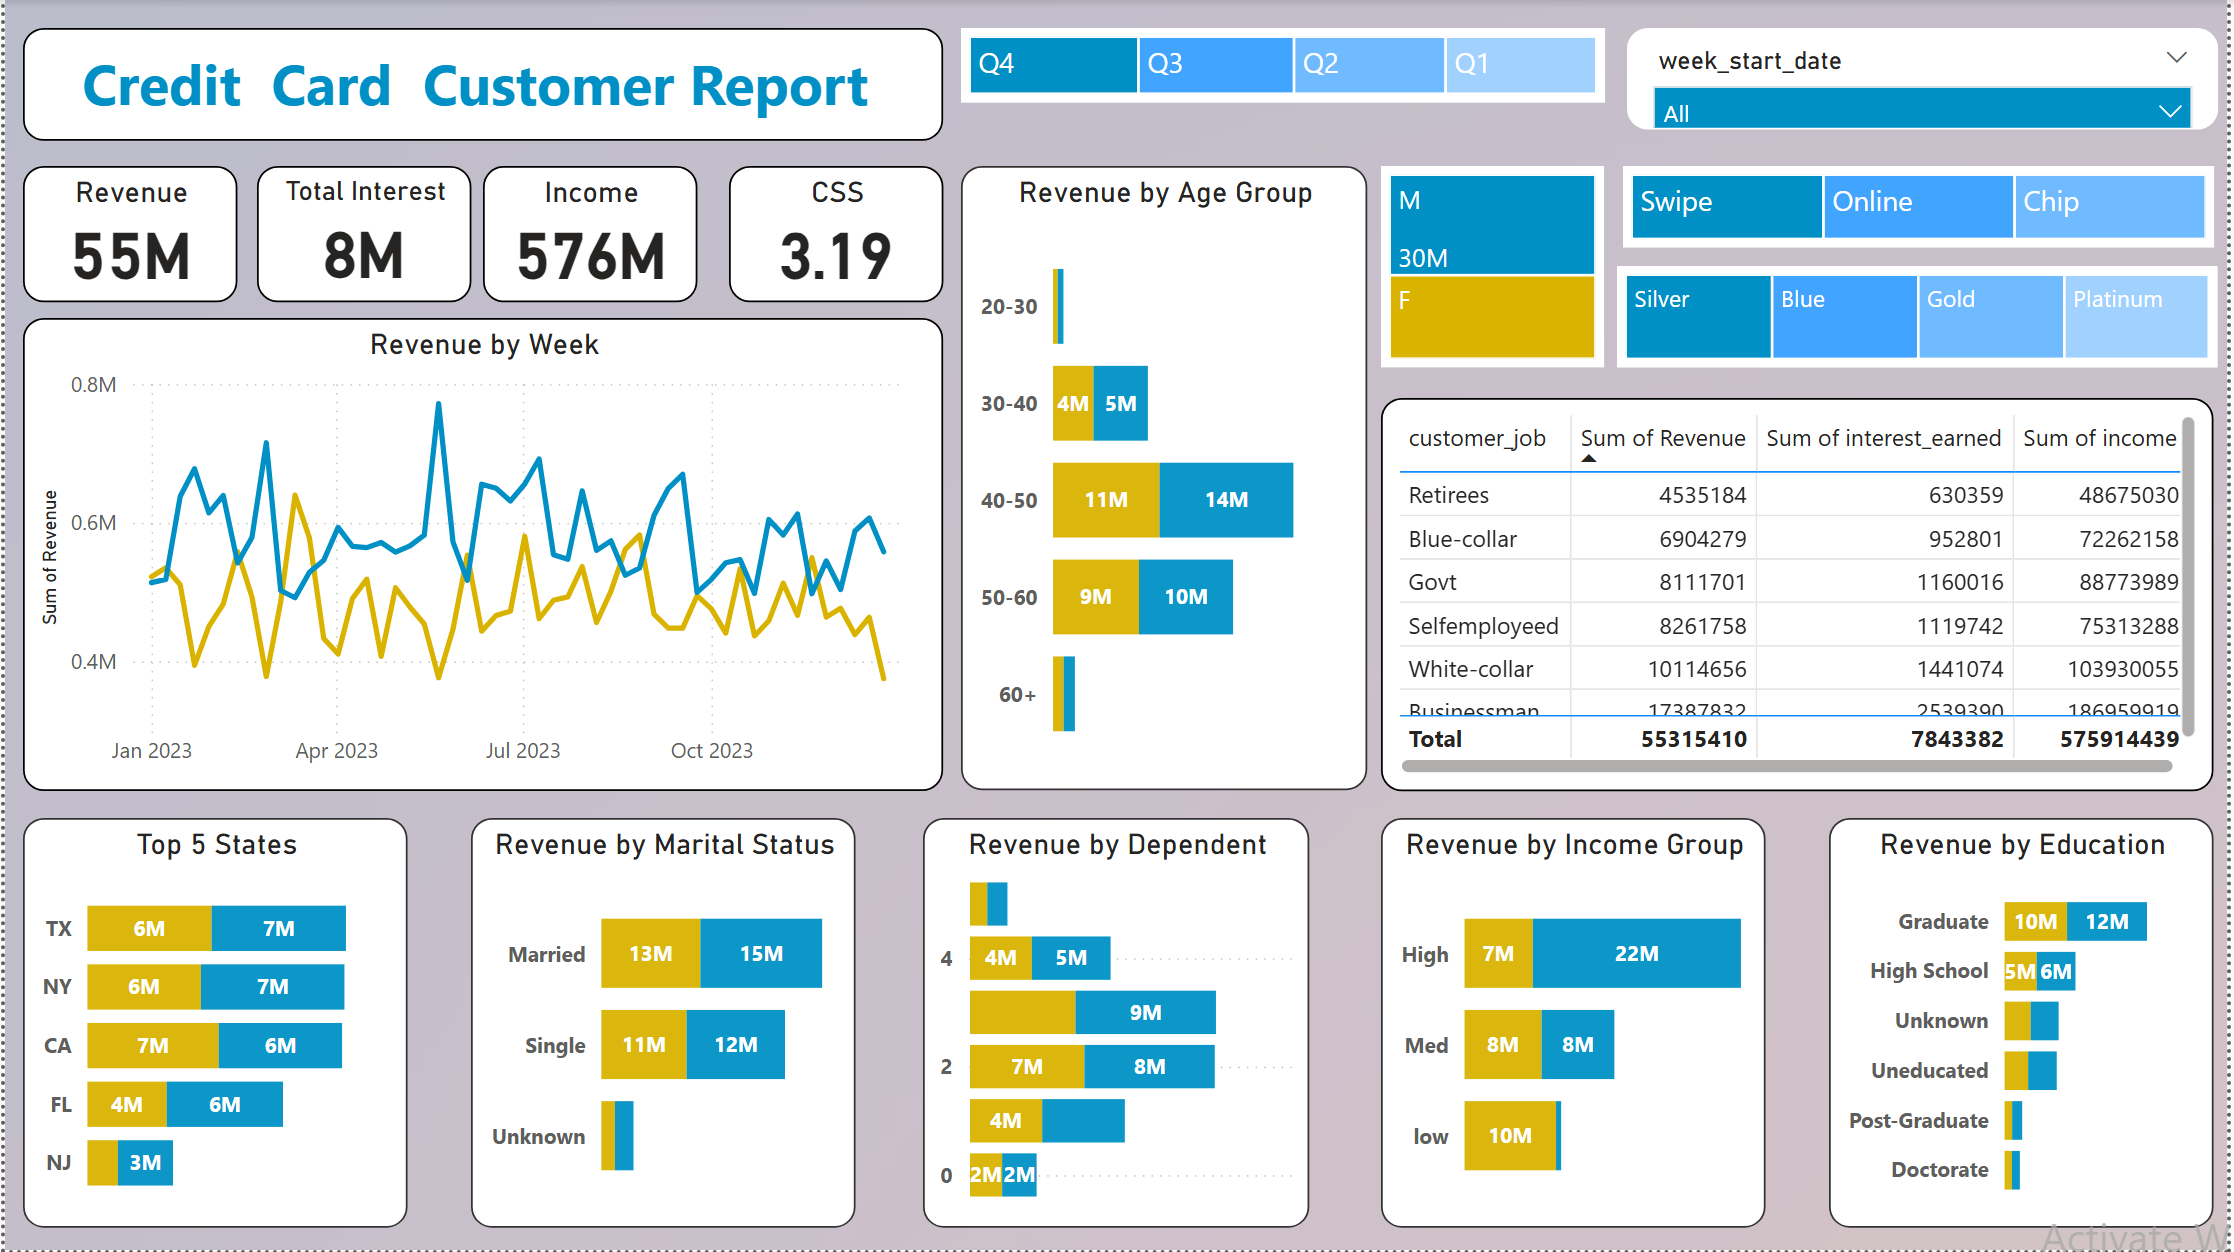

The page's visual inventory and layout, read from the dashboard file:
{"tool":"powerbi","page":{"name":"CC Customer","canvas":[1280,720],"ordinal":2},"visuals":[{"type":"textbox","box":[10.4,15.7,529.8,64.8],"z":0},{"type":"barChart","title":"Revenue by Income Group","fields":{"Y":["Sum(public cc_detail.Revenue)"],"Category":["public cust_detail.IncomeGroup"],"Series":["public cust_detail.gender"]},"box":[793.1,471.2,221.5,236.1],"z":1000},{"type":"tableEx","fields":{"Values":["public cust_detail.customer_job","Sum(public cc_detail.Revenue)","Sum(public cc_detail.interest_earned)","Sum(public cust_detail.income)"]},"box":[793.1,228.8,479.6,226.7],"z":2000},{"type":"card","title":"Revenue","fields":{"Values":["Sum(public cc_detail.Revenue)"]},"box":[10.4,96.1,123.3,78.4],"z":3000},{"type":"card","title":"Income","fields":{"Values":["Sum(public cust_detail.income)"]},"box":[275.9,96.1,123.3,78.4],"z":4000},{"type":"card","title":"Total Interest","fields":{"Values":["Sum(public cc_detail.interest_earned)"]},"box":[145.2,96.1,123.3,78.4],"z":5000},{"type":"card","title":"CSS","fields":{"Values":["Avg(public cust_detail.cust_satisfaction_score)"]},"box":[416.9,96.1,123.3,78.4],"z":6000},{"type":"slicer","fields":{"Values":["public cc_detail.week_start_date"]},"box":[934.1,15.7,340.6,58.5],"z":7000},{"type":"treemap","fields":{"Group":["public cc_detail.qtr"],"Values":["Avg(public cc_detail.client_num)"]},"box":[550.7,15.7,370.9,42.8],"z":8000},{"type":"treemap","fields":{"Values":["Avg(public cc_detail.client_num)"],"Group":["public cc_detail.use_chip"]},"box":[932,96.1,340.6,47],"z":9000},{"type":"treemap","fields":{"Values":["Avg(public cc_detail.client_num)"],"Group":["public cc_detail.card_category"]},"box":[928.9,153.6,345.9,58.5],"z":10000},{"type":"treemap","fields":{"Group":["public cust_detail.gender"],"Values":["Sum(public cc_detail.Revenue)"]},"box":[793.1,96.1,128.5,116],"z":13000},{"type":"lineChart","title":"Revenue by Week","fields":{"Y":["Sum(public cc_detail.Revenue)"],"Series":["public cust_detail.gender"],"Category":["public cc_detail.week_start_date.Variation.Date Hierarchy.Year","public cc_detail.week_start_date.Variation.Date Hierarchy.Month","public cc_detail.week_start_date.Variation.Date Hierarchy.Day"]},"box":[10.4,182.9,529.8,272.7],"z":13001},{"type":"barChart","title":"Revenue by Age Group","fields":{"Y":["Sum(public cc_detail.Revenue)"],"Category":["public cust_detail.AgeGroup"],"Series":["public cust_detail.gender"]},"box":[550.7,96.1,234.1,359.4],"z":13002},{"type":"barChart","title":"Revenue by Dependent","fields":{"Y":["Sum(public cc_detail.Revenue)"],"Category":["public cust_detail.dependent_count"],"Series":["public cust_detail.gender"]},"box":[528.7,471.2,222.6,236.1],"z":13003},{"type":"barChart","title":"Revenue by Education","fields":{"Y":["Sum(public cc_detail.Revenue)"],"Category":["public cust_detail.education_level"],"Series":["public cust_detail.gender"]},"box":[1051.2,471.2,221.5,236.1],"z":13004},{"type":"barChart","title":"Top 5 States","fields":{"Y":["Sum(public cc_detail.Revenue)"],"Category":["public cust_detail.state_cd"],"Series":["public cust_detail.gender"]},"box":[10.4,471.2,221.5,236.1],"z":13005},{"type":"barChart","title":"Revenue by Marital Status","fields":{"Y":["Sum(public cc_detail.Revenue)"],"Category":["public cust_detail.marital_status"],"Series":["public cust_detail.gender"]},"box":[268.5,471.2,221.5,236.1],"z":13006}]}

Visuals, with their boxes in screenshot pixels (x1, y1, x2, y2), scaled from the page's 1280x720 canvas onto the 2234x1252 screenshot:
textbox: crop(18, 27, 943, 140)
"Revenue by Income Group" barChart: crop(1384, 819, 1771, 1230)
tableEx - public cust_detail.customer_job x Sum(public cc_detail.Revenue): crop(1384, 398, 2221, 792)
"Revenue" card: crop(18, 167, 233, 303)
"Income" card: crop(482, 167, 697, 303)
"Total Interest" card: crop(253, 167, 469, 303)
"CSS" card: crop(728, 167, 943, 303)
slicer - public cc_detail.week_start_date: crop(1630, 27, 2225, 129)
treemap - public cc_detail.qtr x Avg(public cc_detail.client_num): crop(961, 27, 1608, 102)
treemap - Avg(public cc_detail.client_num) x public cc_detail.use_chip: crop(1627, 167, 2221, 249)
treemap - Avg(public cc_detail.client_num) x public cc_detail.card_category: crop(1621, 267, 2225, 369)
treemap - public cust_detail.gender x Sum(public cc_detail.Revenue): crop(1384, 167, 1608, 369)
"Revenue by Week" lineChart: crop(18, 318, 943, 792)
"Revenue by Age Group" barChart: crop(961, 167, 1370, 792)
"Revenue by Dependent" barChart: crop(923, 819, 1311, 1230)
"Revenue by Education" barChart: crop(1835, 819, 2221, 1230)
"Top 5 States" barChart: crop(18, 819, 405, 1230)
"Revenue by Marital Status" barChart: crop(469, 819, 855, 1230)
